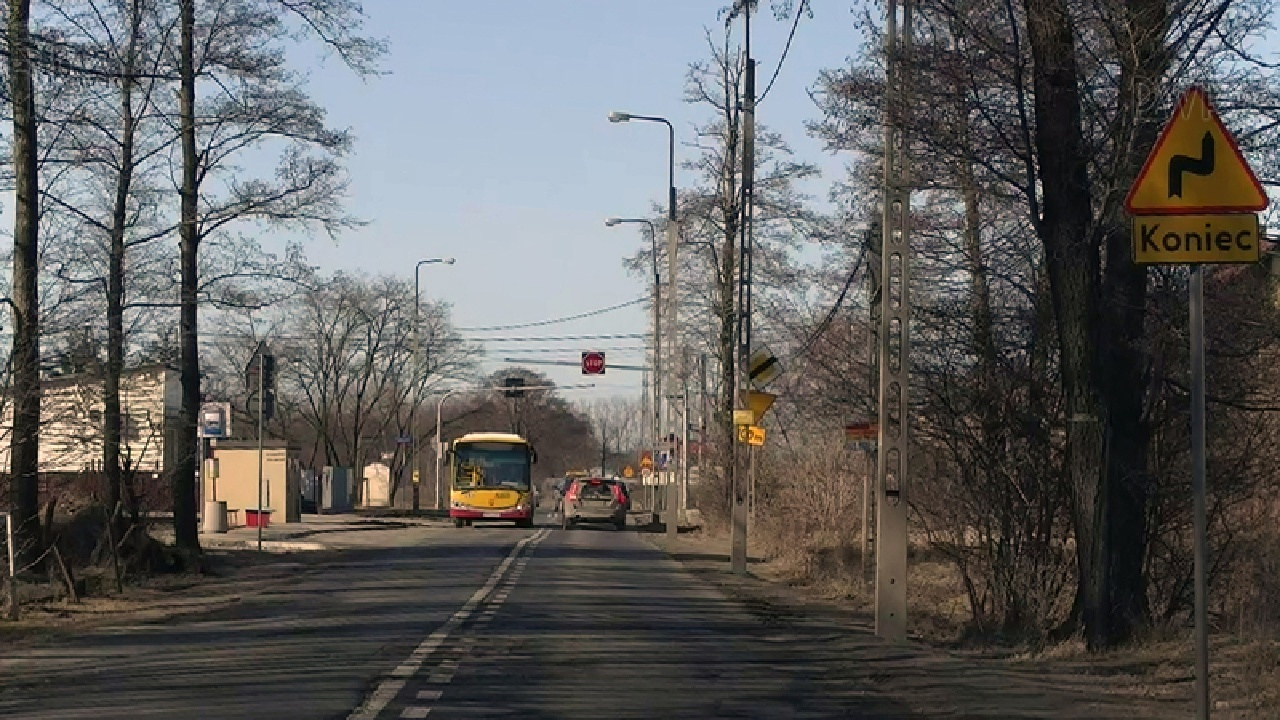A3: (1120, 81, 1270, 214)
A7: (733, 388, 779, 428)
D2: (739, 341, 788, 389)
